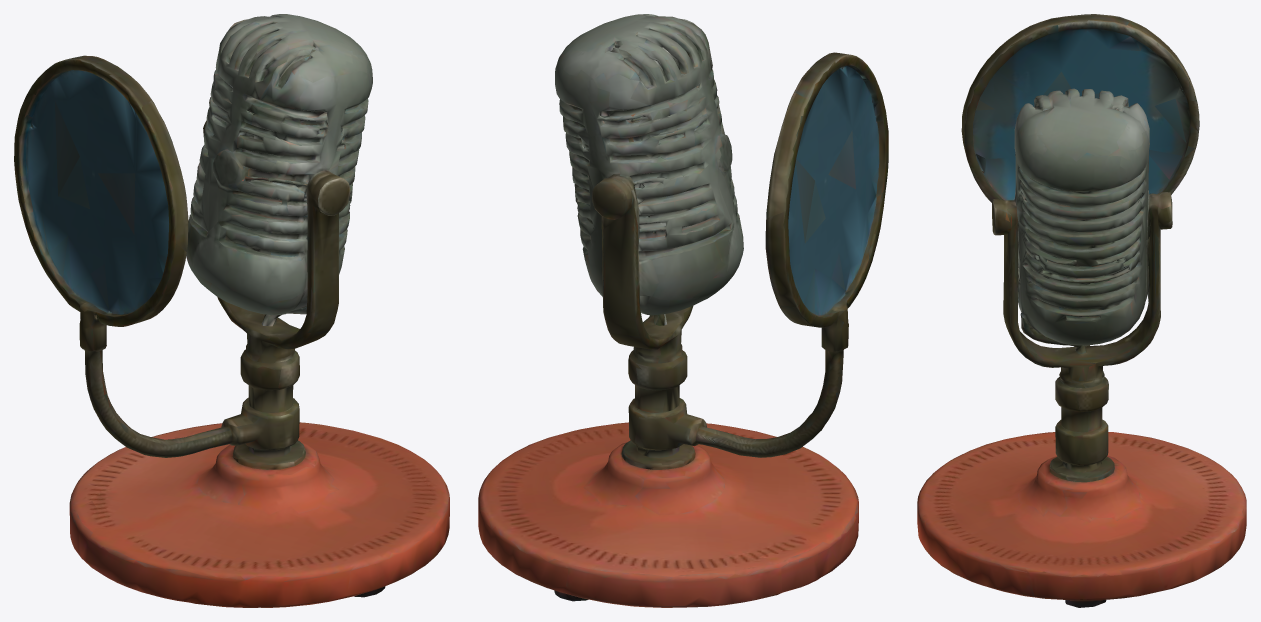
Rendered from sc-broadcast-mic.glb.
3 views of the same model, side by side, from view 1: azimuth 30°, elevation 25°; view 2: azimuth 150°, elevation 25°; view 3: azimuth 270°, elevation 25° (orthographic). The views are drawn at different scales.
Visible parts, largest first — view 1: geometry_0; view 2: geometry_0; view 3: geometry_0.
Boxes of the visible parts, left/top/right/bottom form: geometry_0: left=14, top=14, right=449, bottom=607; geometry_0: left=478, top=14, right=888, bottom=607; geometry_0: left=917, top=14, right=1246, bottom=607.
Size of the model in its own units: 0.7095 by 1 by 0.6541.
1 material, 1 textured.
